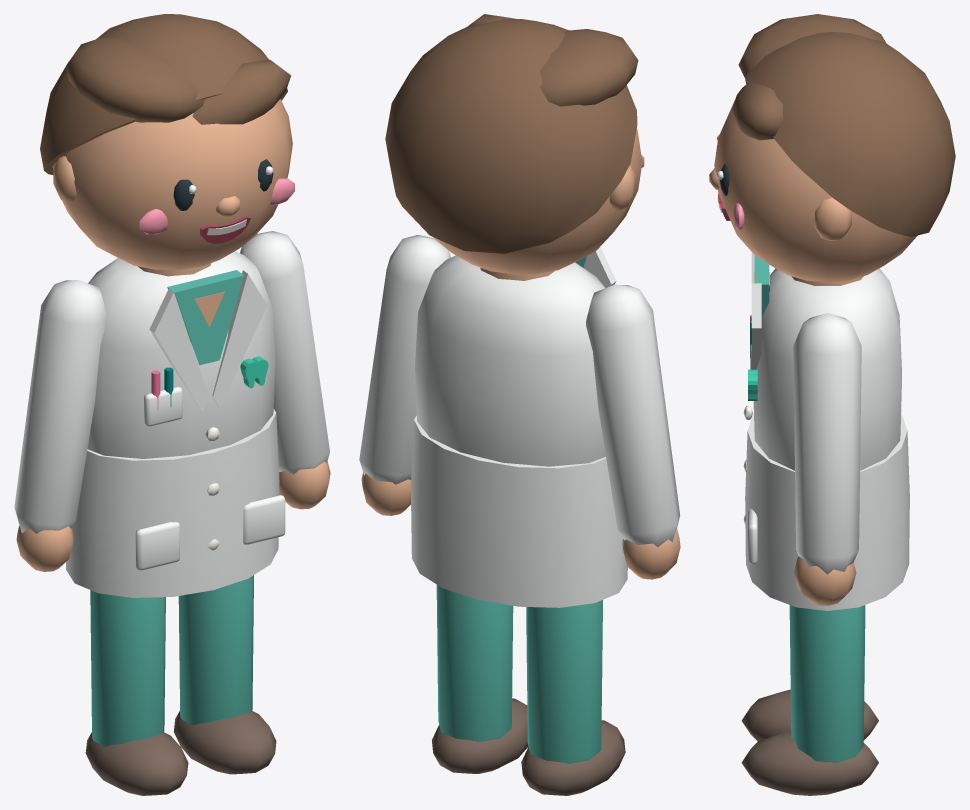
File: char_dentist.glb
The picture shows the model from 3 angles, left to right: view 1: azimuth 30°, elevation 25°; view 2: azimuth 150°, elevation 25°; view 3: azimuth 270°, elevation 25°; orthographic projection. The views are drawn at different scales.
Visible parts, largest first — view 1: Body, Head, ArmR, LegR, LegL, ArmL; view 2: Body, Head, ArmR, LegR, LegL, ArmL; view 3: Head, Body, ArmL, LegL, LegR.
Boxes of the visible parts, left/top/right/bottom form: Body: left=66, top=251, right=285, bottom=597; Head: left=40, top=14, right=294, bottom=269; ArmR: left=14, top=280, right=107, bottom=571; LegR: left=85, top=590, right=188, bottom=795; LegL: left=173, top=575, right=276, bottom=774; ArmL: left=240, top=231, right=330, bottom=509; Body: left=411, top=247, right=627, bottom=607; Head: left=385, top=14, right=644, bottom=274; ArmR: left=586, top=284, right=680, bottom=579; LegR: left=521, top=600, right=625, bottom=795; LegL: left=432, top=585, right=528, bottom=773; ArmL: left=359, top=235, right=450, bottom=515; Head: left=709, top=14, right=955, bottom=282; Body: left=743, top=252, right=909, bottom=610; ArmL: left=793, top=313, right=861, bottom=605; LegL: left=741, top=605, right=878, bottom=795; LegR: left=741, top=689, right=878, bottom=741.
Bounding box in the file's own units: 0.7103 × 1.63 × 0.5013.
